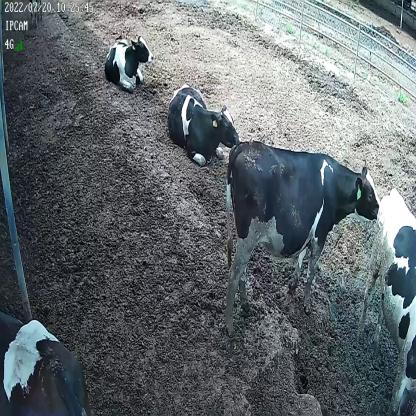cow: (222, 137, 382, 339), (165, 78, 241, 168), (102, 30, 154, 92)
